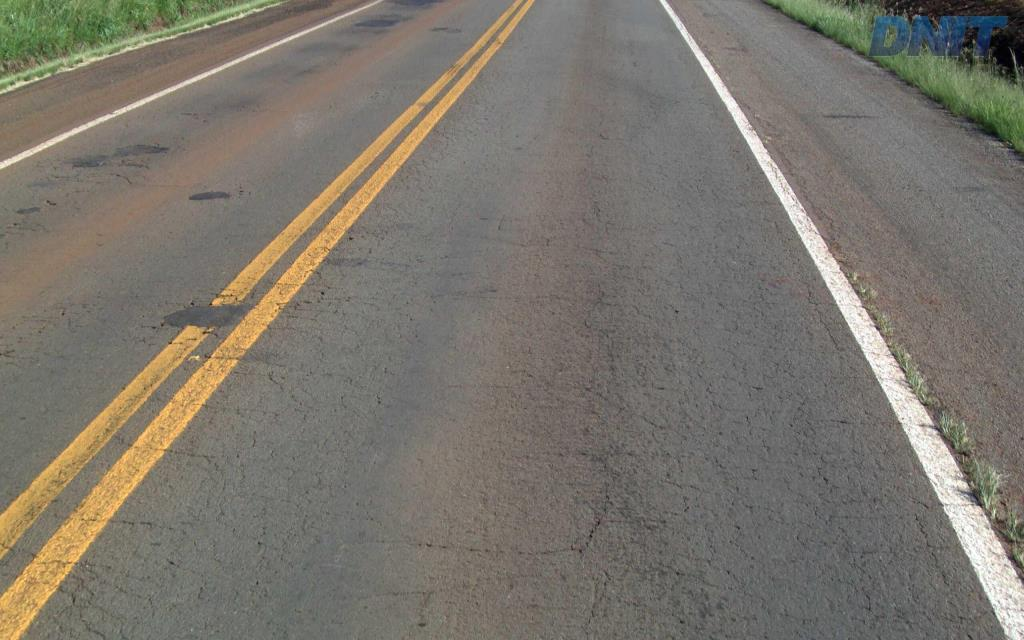crack: (578, 448, 621, 559), (609, 496, 658, 536)
